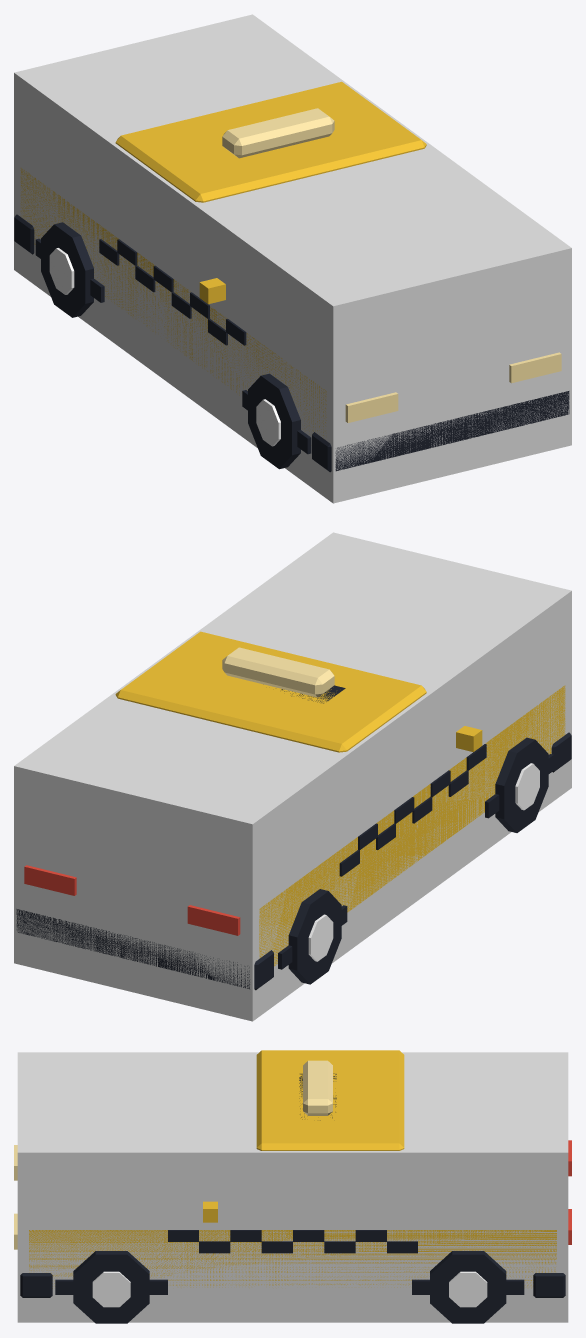
The model's file is taxi.glb.
The picture shows the model from 3 angles, top to bottom: view 1: azimuth 30°, elevation 25°; view 2: azimuth 150°, elevation 25°; view 3: azimuth 270°, elevation 25°; orthographic projection. The views are drawn at different scales.
Parts seen in each view (by area): view 1: COL_body, taxi, wheel_RL, wheel_FL; view 2: COL_body, taxi, wheel_FL, wheel_RL; view 3: COL_body, taxi, wheel_FR, wheel_RR.
Boxes of the visible parts, bbox=[...] form: COL_body: bbox=[14, 14, 571, 503]; taxi: bbox=[14, 81, 569, 472]; wheel_RL: bbox=[41, 222, 93, 317]; wheel_FL: bbox=[248, 373, 300, 469]; COL_body: bbox=[14, 532, 571, 1021]; taxi: bbox=[16, 631, 571, 990]; wheel_FL: bbox=[495, 737, 548, 832]; wheel_RL: bbox=[288, 889, 341, 984]; COL_body: bbox=[17, 1052, 568, 1322]; taxi: bbox=[14, 1050, 571, 1297]; wheel_FR: bbox=[73, 1251, 149, 1323]; wheel_RR: bbox=[430, 1251, 506, 1323].
Bounding box in the file's own units: 2.18 × 1.7 × 4.46.
